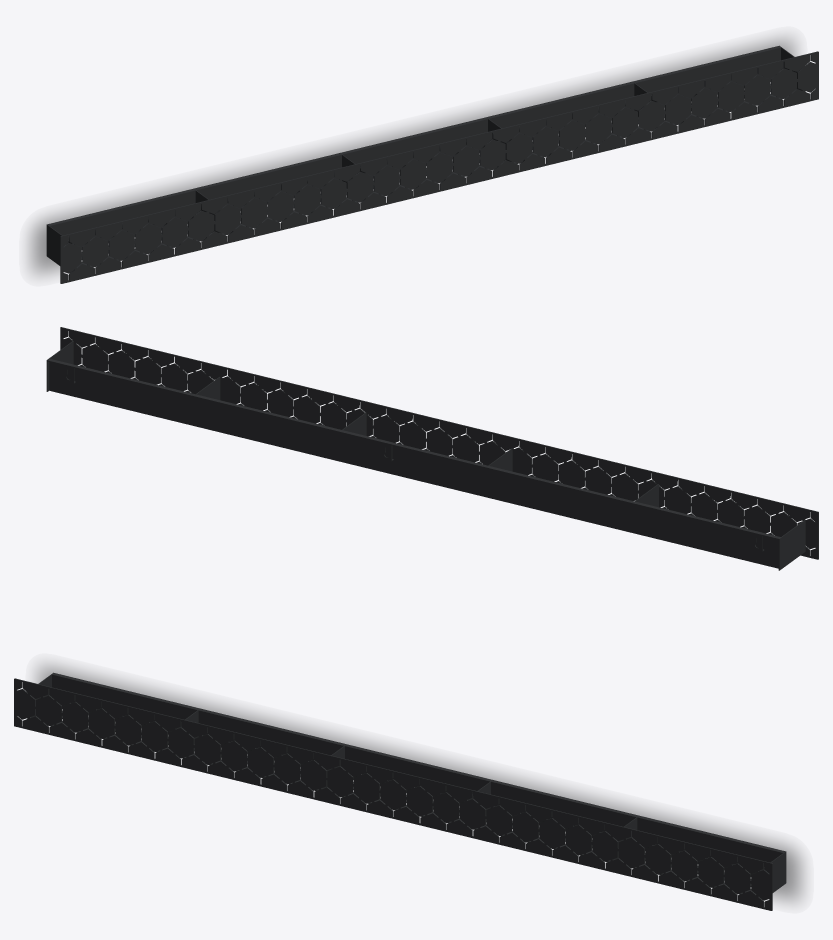
Rendered from bee-mono.0897311bec.ar.glb.
The picture shows the model from 3 angles, top to bottom: view 1: azimuth 30°, elevation 25°; view 2: azimuth 150°, elevation 25°; view 3: azimuth 330°, elevation 25°; orthographic projection.
Visible parts, largest first — view 1: NAUO1, object 2; view 2: NAUO1; view 3: NAUO1, object 2.
Part boxes in pixels (x1,y1,x2,y2): NAUO1: (46,45,818,283); object 2: (29,38,797,274); NAUO1: (46,327,818,570); NAUO1: (14,672,786,910); object 2: (35,665,803,901).
Size of the model in its own units: 1.58 by 0.17 by 0.092.
2 materials, 1 textured.
